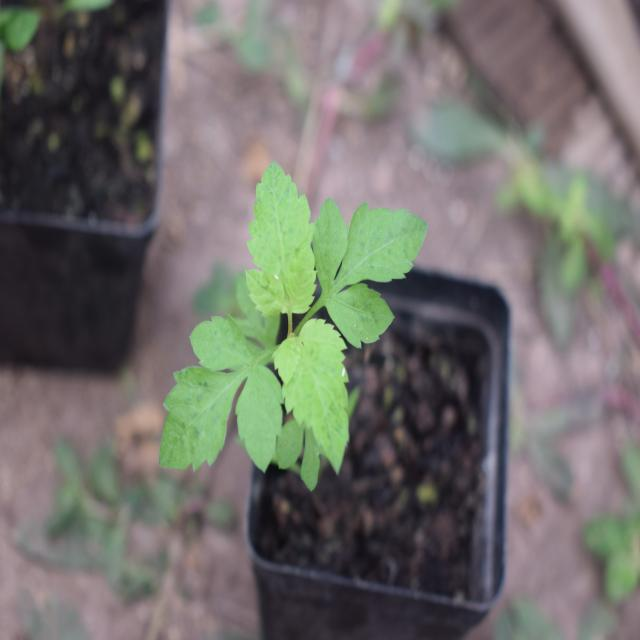Bidens pilosa: (150, 156, 423, 509)
